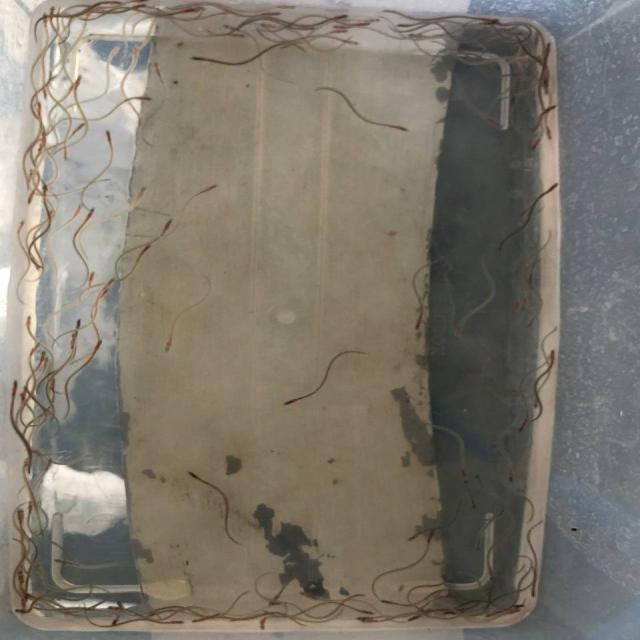glass_eel: (385, 122, 414, 136), (450, 320, 470, 340), (485, 117, 509, 132), (81, 269, 99, 288), (524, 138, 546, 153), (136, 242, 154, 260), (544, 179, 561, 198), (410, 314, 426, 334), (354, 614, 380, 625), (403, 530, 426, 542), (404, 611, 424, 624), (107, 42, 123, 58), (280, 397, 302, 408), (43, 5, 59, 20), (150, 61, 166, 76), (378, 596, 402, 606), (542, 128, 556, 145), (203, 182, 221, 195), (130, 44, 144, 60), (34, 100, 48, 116), (64, 333, 80, 347), (186, 468, 202, 482), (472, 470, 486, 486), (545, 348, 559, 363), (467, 497, 482, 511), (163, 214, 174, 233), (72, 120, 88, 133), (135, 184, 148, 200), (426, 528, 439, 544), (540, 40, 554, 54), (515, 420, 529, 434), (14, 508, 27, 523), (505, 29, 524, 39), (71, 73, 84, 87), (103, 275, 116, 289), (71, 317, 84, 331), (93, 337, 107, 350), (36, 350, 49, 364), (162, 342, 175, 356), (188, 4, 208, 13), (102, 128, 114, 143), (13, 219, 28, 231), (481, 15, 501, 24), (42, 456, 54, 471), (439, 608, 457, 618), (189, 55, 211, 63), (105, 604, 124, 613), (505, 471, 518, 484), (97, 288, 111, 300), (109, 616, 123, 628), (266, 595, 280, 607), (545, 101, 557, 115), (9, 377, 20, 392), (23, 314, 33, 330), (20, 456, 31, 470), (218, 23, 235, 32), (130, 3, 149, 11), (393, 21, 412, 29), (136, 94, 154, 102), (60, 148, 72, 160), (282, 2, 298, 11), (406, 32, 424, 40), (54, 557, 70, 566), (509, 601, 525, 610), (39, 183, 50, 196), (40, 355, 51, 368), (47, 375, 58, 388), (40, 12, 50, 26), (40, 86, 50, 100), (24, 499, 34, 513), (532, 395, 542, 409), (266, 10, 283, 18), (256, 22, 275, 29), (364, 16, 383, 23), (101, 0, 123, 6), (34, 140, 45, 152), (86, 205, 98, 216), (31, 341, 43, 352), (14, 568, 26, 579), (114, 599, 126, 610), (356, 21, 372, 29), (171, 617, 185, 626), (481, 611, 495, 620), (529, 586, 538, 600), (19, 389, 30, 400), (74, 202, 84, 214), (334, 13, 349, 21), (345, 38, 360, 46), (26, 195, 35, 207), (232, 33, 247, 40), (335, 28, 350, 35), (190, 617, 205, 624), (257, 620, 267, 630), (332, 23, 346, 30), (13, 608, 29, 614), (146, 610, 158, 618), (22, 384, 31, 394), (131, 0, 152, 4)
